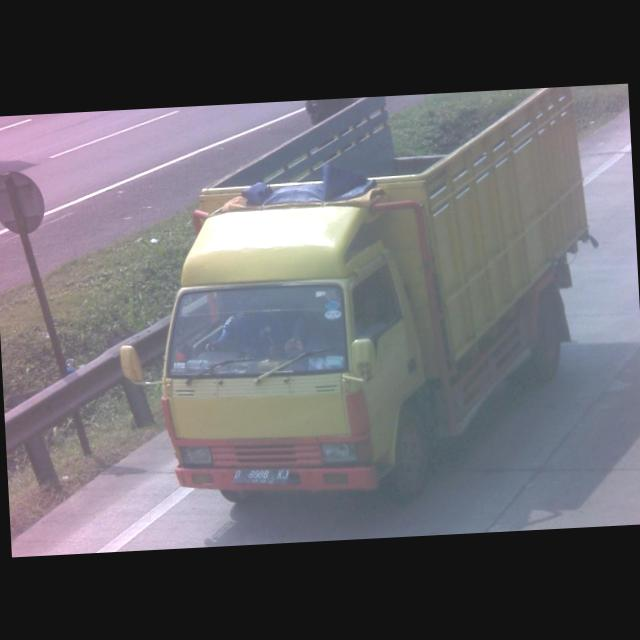plate: (231, 464, 291, 487)
